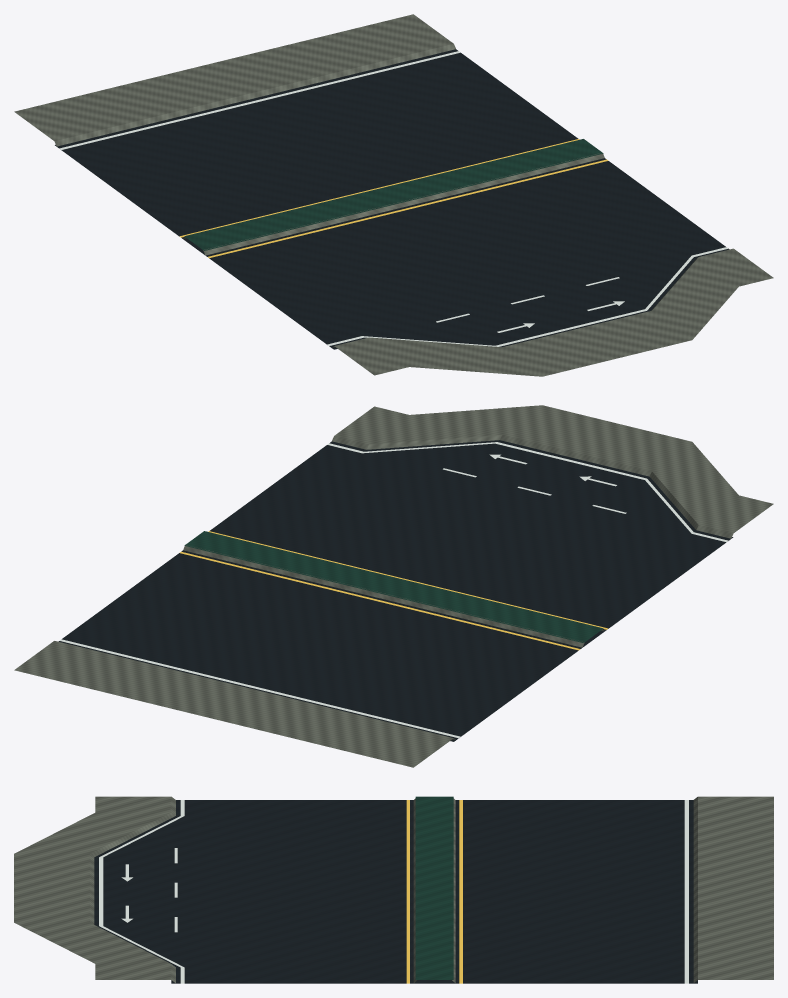
The model's file is road_arterial_6lane_16m_turn_bay_LOD2.glb.
The picture shows the model from 3 angles, top to bottom: view 1: azimuth 30°, elevation 25°; view 2: azimuth 150°, elevation 25°; view 3: azimuth 270°, elevation 25°; orthographic projection. The views are drawn at different scales.
Parts seen in each view (by area): view 1: road_arterial_6lane_16m_turn_bay__surface.002, road_arterial_6lane_16m_turn_bay__markings.002; view 2: road_arterial_6lane_16m_turn_bay__surface.002, road_arterial_6lane_16m_turn_bay__markings.002; view 3: road_arterial_6lane_16m_turn_bay__surface.002, road_arterial_6lane_16m_turn_bay__markings.002, road_arterial_6lane_16m_turn_bay__inset_bay.002.
Boxes of the visible parts, bbox=[...] form: road_arterial_6lane_16m_turn_bay__surface.002: bbox=[14, 14, 773, 376]; road_arterial_6lane_16m_turn_bay__markings.002: bbox=[59, 51, 728, 346]; road_arterial_6lane_16m_turn_bay__surface.002: bbox=[14, 405, 773, 767]; road_arterial_6lane_16m_turn_bay__markings.002: bbox=[59, 442, 728, 738]; road_arterial_6lane_16m_turn_bay__surface.002: bbox=[14, 796, 773, 983]; road_arterial_6lane_16m_turn_bay__markings.002: bbox=[99, 800, 688, 983]; road_arterial_6lane_16m_turn_bay__inset_bay.002: bbox=[121, 848, 177, 932].
Bounding box in the file's own units: 16 × 0.15 × 28.
Materials: 6 (4 with a texture image).
